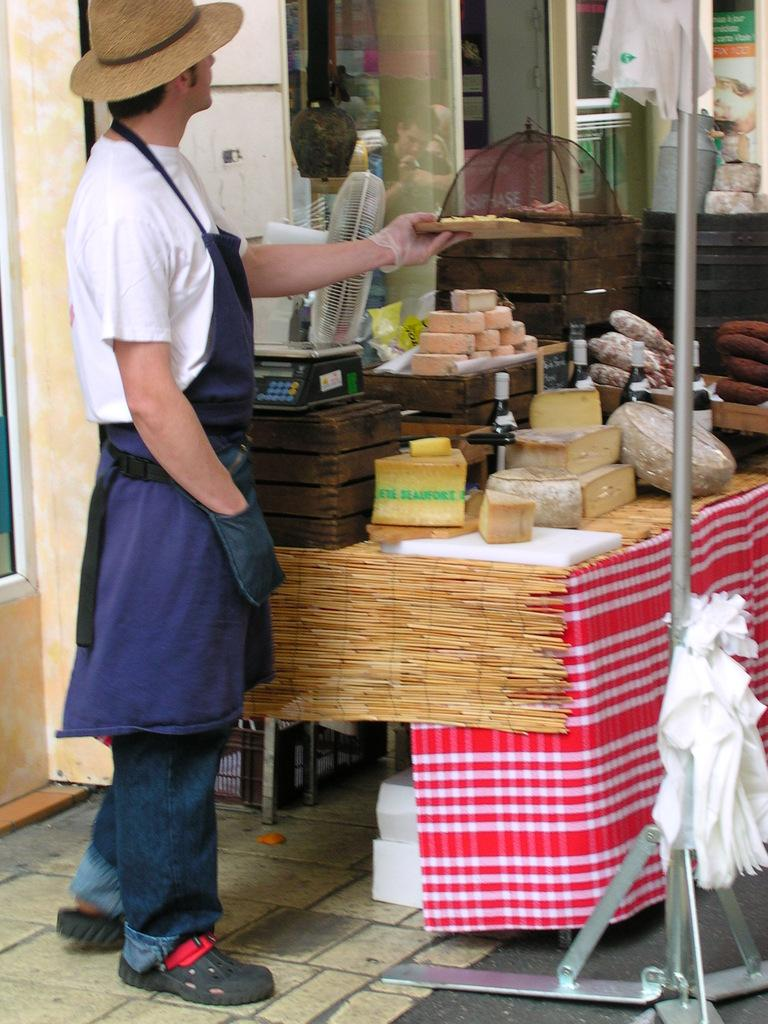Hat: (68, 0, 242, 104)
